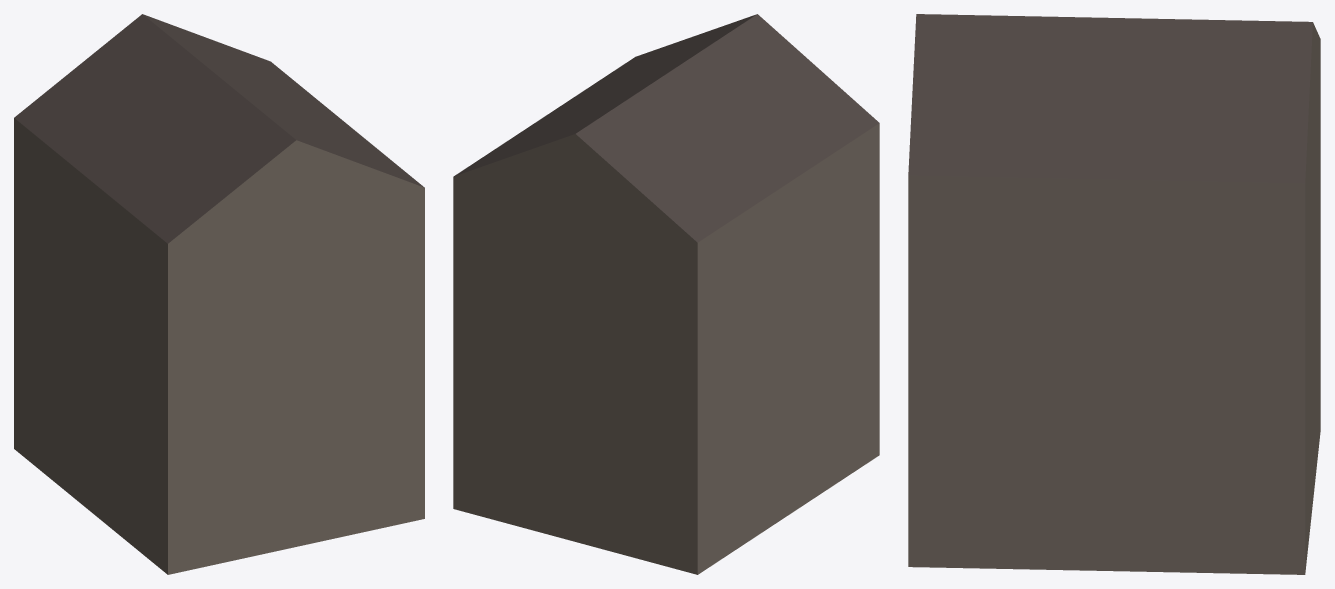
3 renders of one model, left to right at view 1: azimuth 30°, elevation 25°; view 2: azimuth 150°, elevation 25°; view 3: azimuth 270°, elevation 25°, orthographic. The views are drawn at different scales.
Parts seen in each view (by area): view 1: HP-w858824343; view 2: HP-w858824343; view 3: HP-w858824343.
Part boxes in pixels (bbox=[...]): HP-w858824343: bbox=[14, 14, 424, 574]; HP-w858824343: bbox=[453, 14, 879, 574]; HP-w858824343: bbox=[908, 14, 1320, 574].
Size of the model in its own units: 7.51 by 11.06 by 8.59.
